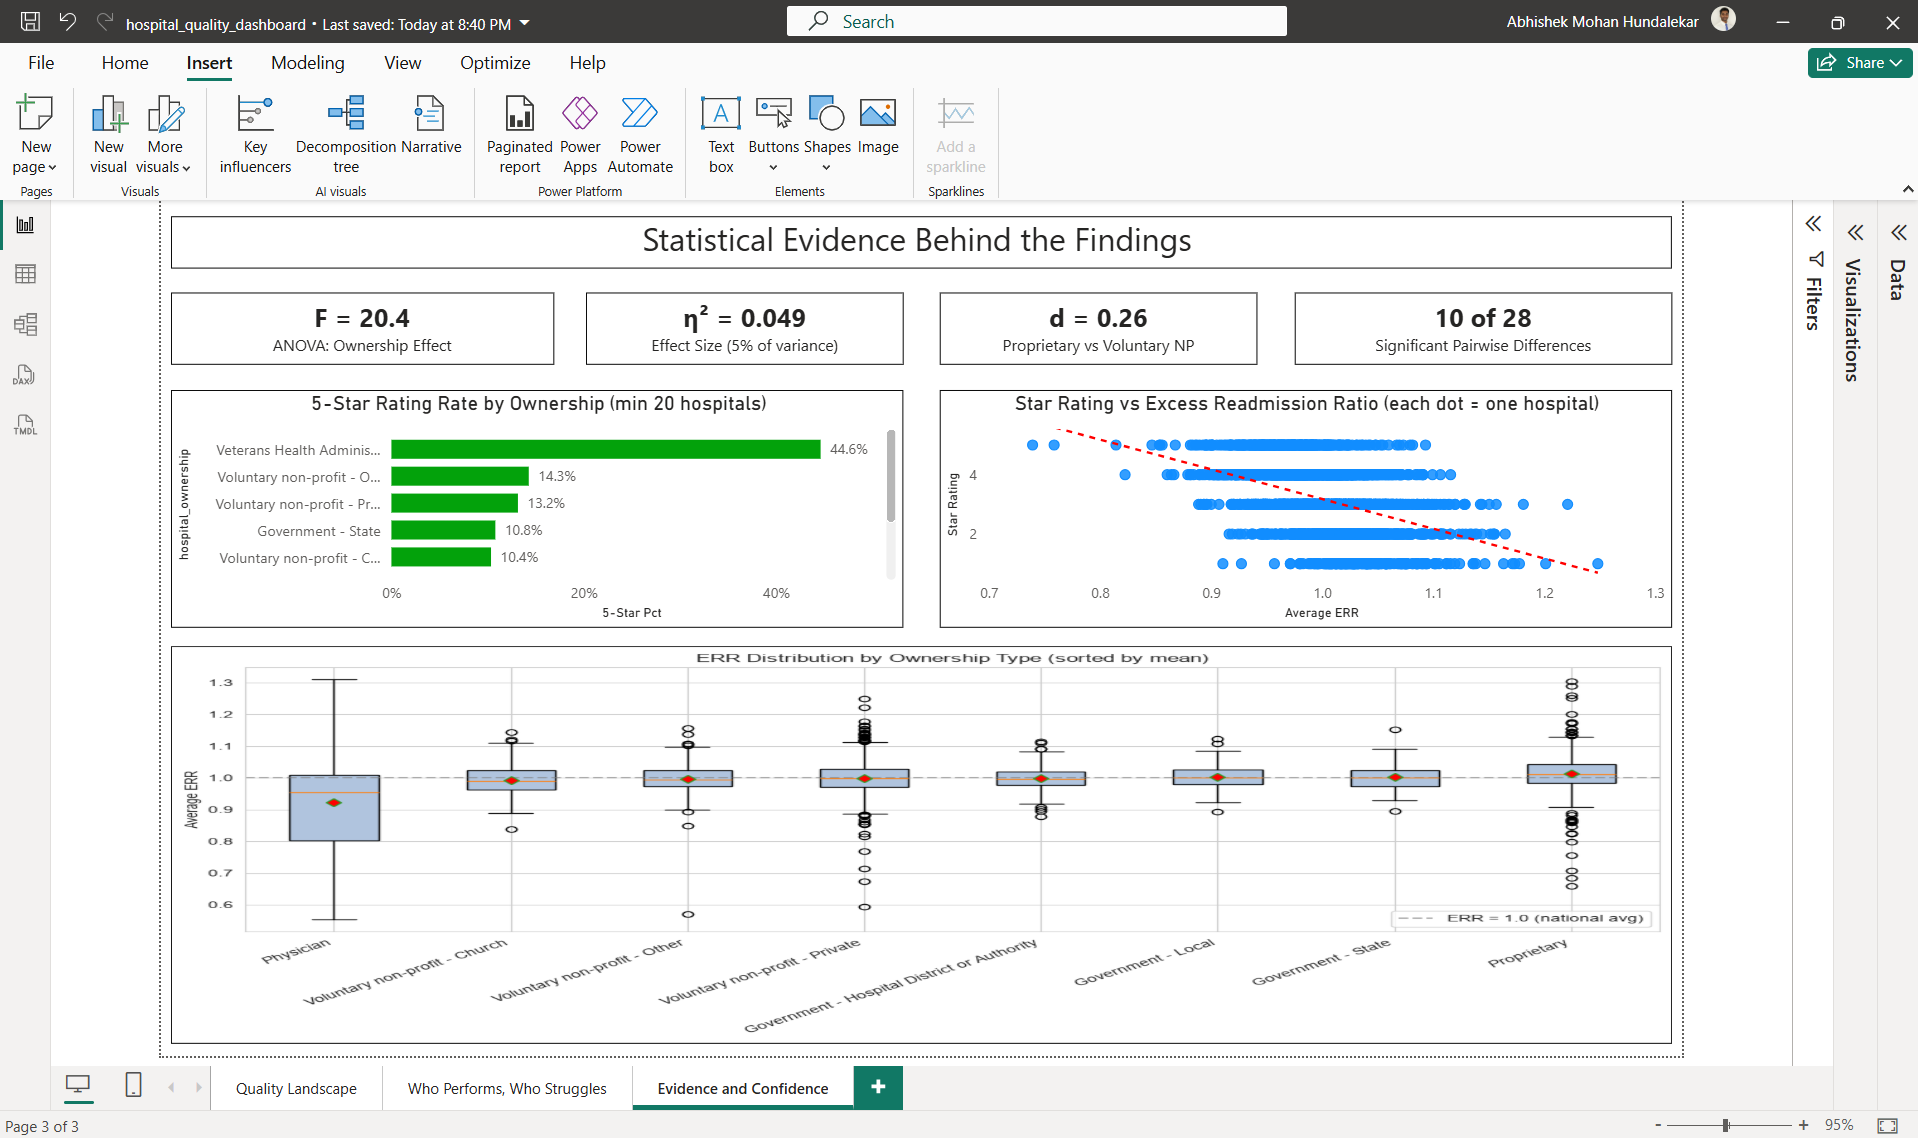

The dashboard page shown, as its layout file describes it:
{"tool":"powerbi","page":{"name":"Evidence and Confidence","canvas":[1280,720],"ordinal":2},"visuals":[{"type":"textbox","box":[8.4,13.7,1262.7,44.2],"z":0},{"type":"textbox","box":[357,77.9,267.4,60.5],"z":1000},{"type":"textbox","box":[8.1,77.9,322.1,60.5],"z":2000},{"type":"textbox","box":[654.7,77.9,267.4,60.5],"z":3000},{"type":"textbox","box":[953.5,77.9,317.4,60.5],"z":4000},{"type":"clusteredBarChart","title":"5-Star Rating Rate by Ownership (min 20 hospitals)","fields":{"Category":["v_hospital_master.hospital_ownership"],"Y":["v_hospital_master.5-Star Pct"]},"box":[8.4,159.8,616.1,199.8],"z":5000},{"type":"scatterChart","title":"Star Rating vs Excess Readmission Ratio (each dot = one hospital)","fields":{"Category":["v_hospital_master.facility_id"],"X":["Avg(v_hospital_master.avg_err)"],"Y":["Avg(v_hospital_master.hospital_overall_rating)"]},"box":[655,159.8,616.1,199.8],"z":6000},{"type":"image","box":[8.4,375.4,1262.7,334.3],"z":7000}]}

Visuals, with their boxes on the page's 1280x720 design canvas (x1, y1, x2, y2). These are canvas units, not pixel positions in the 1918x1138 screenshot, which may show the page scaled, cropped or inside an application window:
textbox: [x1=8, y1=14, x2=1271, y2=58]
textbox: [x1=357, y1=78, x2=624, y2=138]
textbox: [x1=8, y1=78, x2=330, y2=138]
textbox: [x1=655, y1=78, x2=922, y2=138]
textbox: [x1=954, y1=78, x2=1271, y2=138]
"5-Star Rating Rate by Ownership (min 20 hospitals)" clusteredBarChart: [x1=8, y1=160, x2=624, y2=360]
"Star Rating vs Excess Readmission Ratio (each dot = one hospital)" scatterChart: [x1=655, y1=160, x2=1271, y2=360]
image: [x1=8, y1=375, x2=1271, y2=710]
